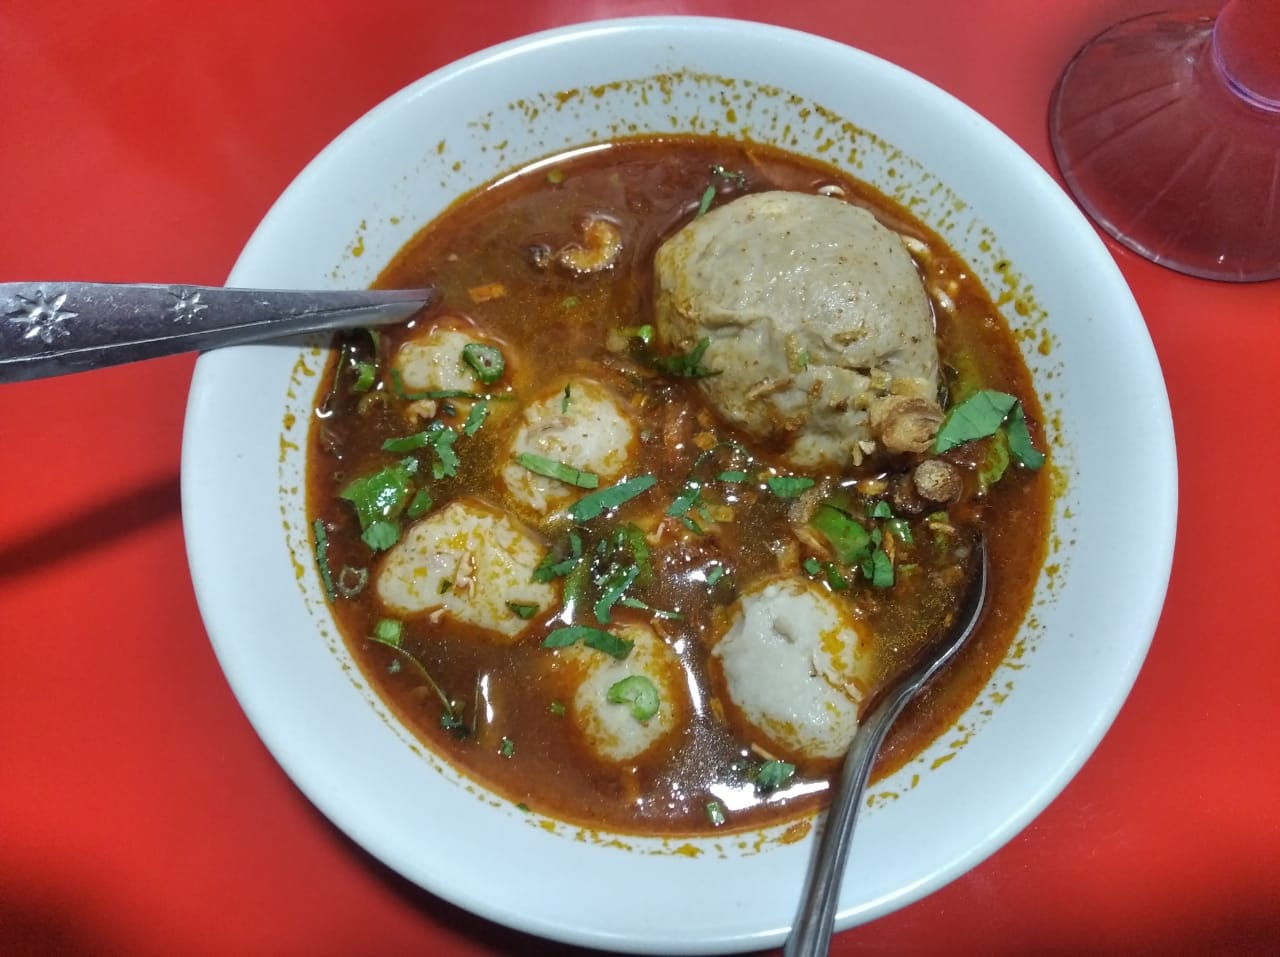bakso: (263, 141, 1099, 846)
